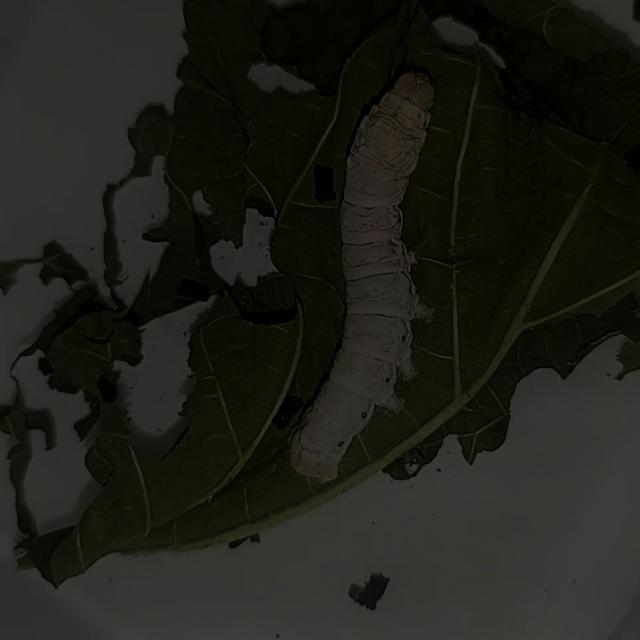Healthy: (263, 53, 450, 496)
